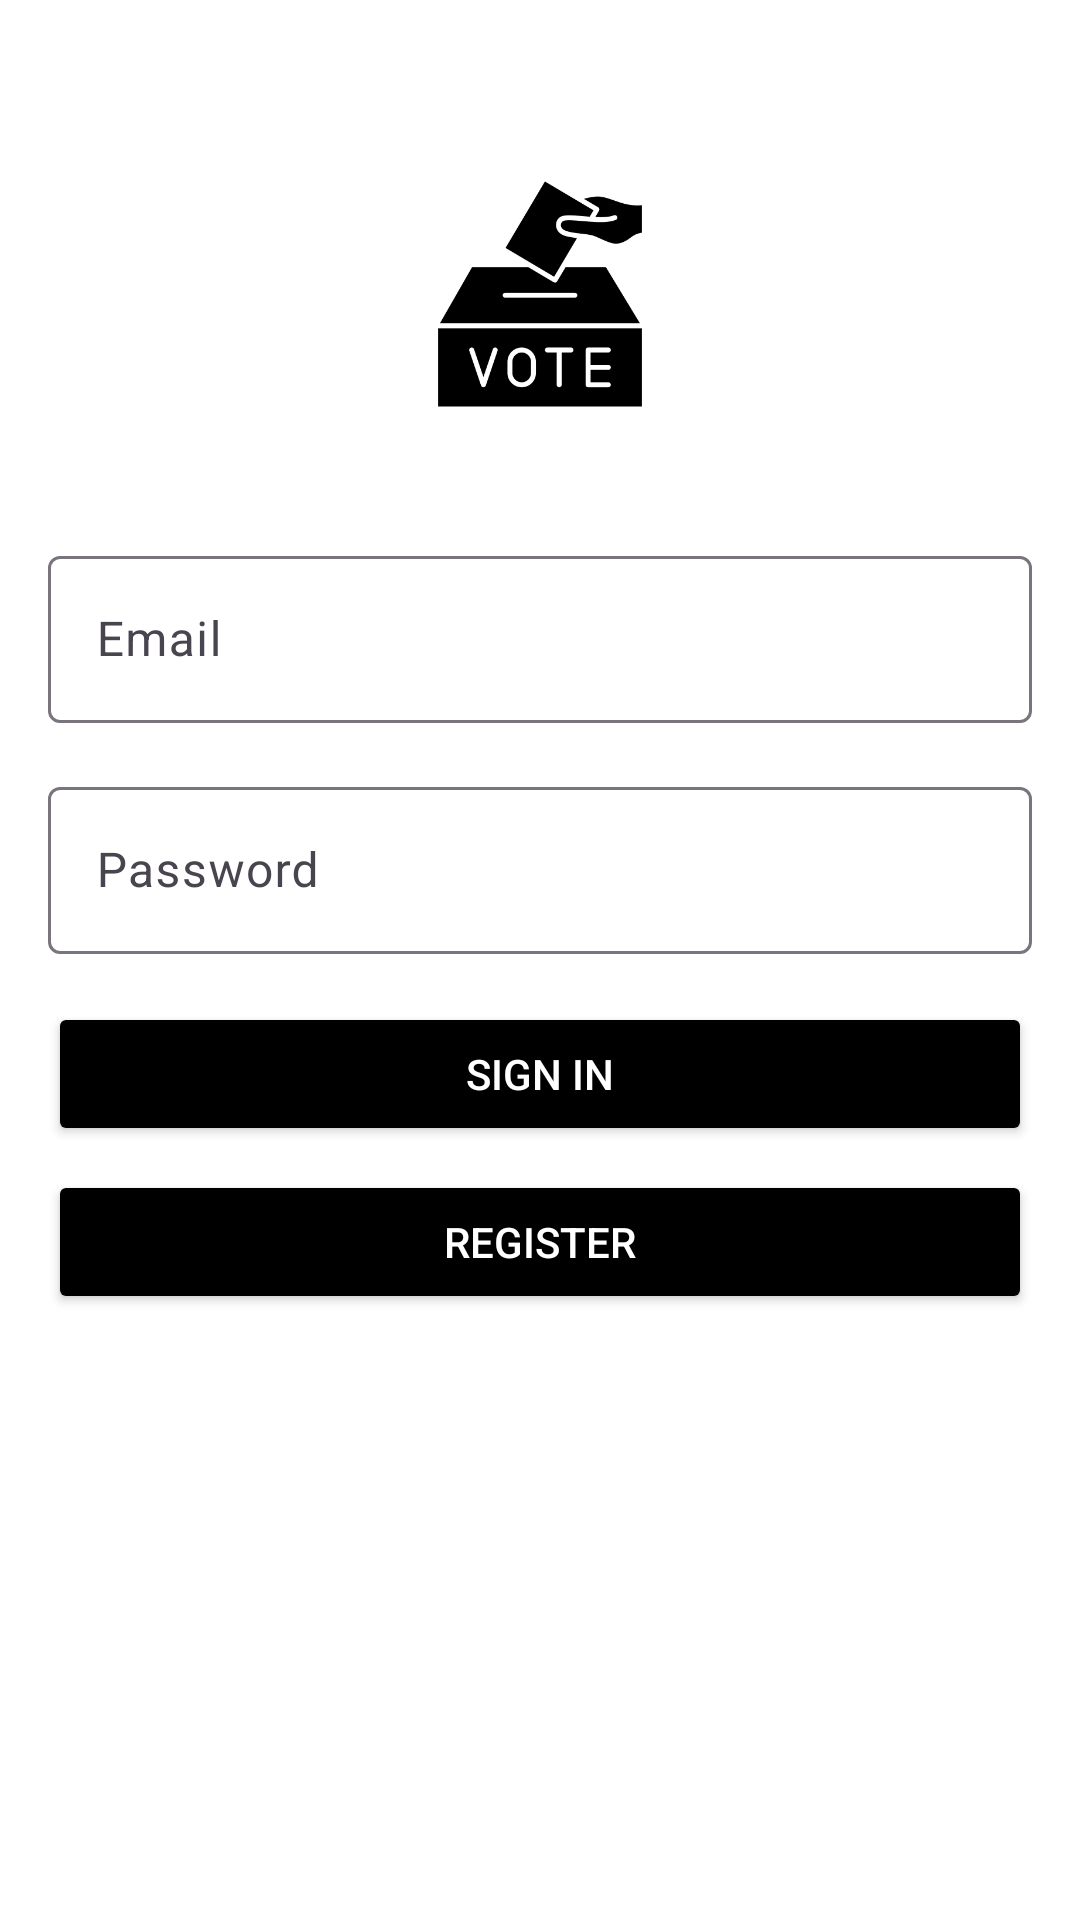

Screen size 1080px x 1920px. Icon name, then its center in pixels as point (x, y):
ballot: point (540, 294)
